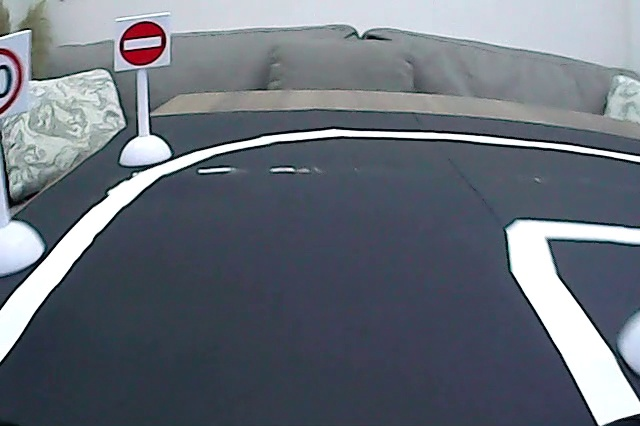do not enter: (118, 19, 169, 68)
